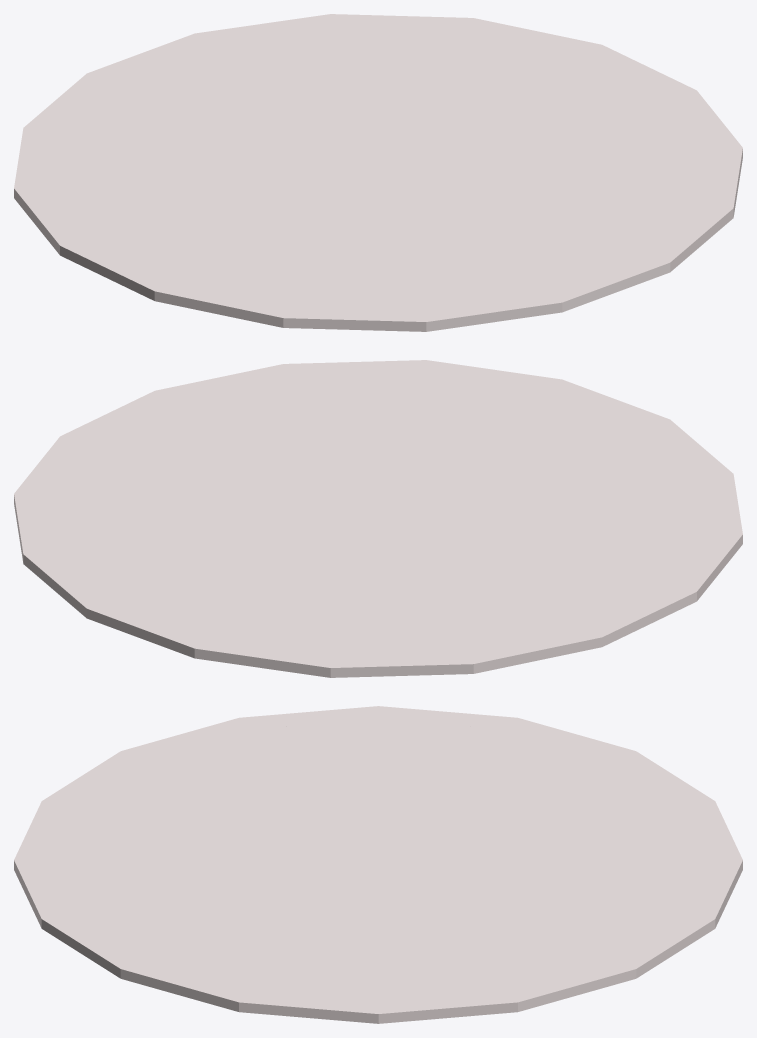
File: dish.obj
3 views of the same model, one above another, from view 1: azimuth 30°, elevation 25°; view 2: azimuth 150°, elevation 25°; view 3: azimuth 270°, elevation 25° (orthographic).
Visible parts, largest first — view 1: Cube.001; view 2: Cube.001; view 3: Cube.001.
Boxes of the visible parts, box(x1,y1,x2,y2) form: Cube.001: box(14, 14, 742, 331); Cube.001: box(14, 360, 742, 677); Cube.001: box(14, 706, 742, 1023).
Bounding box in the file's own units: 1.68 × 0.0763 × 1.68.
